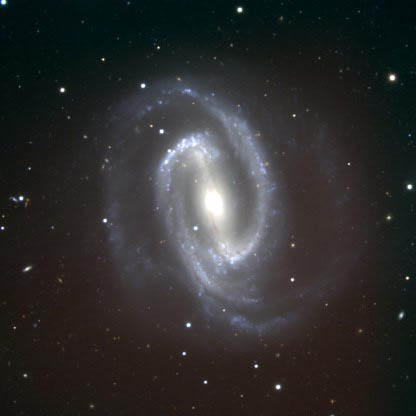NGC 1300: (71, 52, 376, 359)
